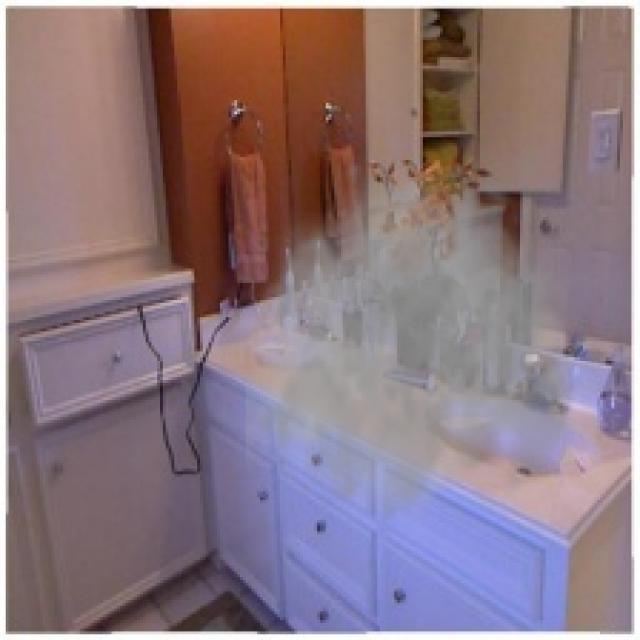Smoke: (245, 148, 606, 532)
